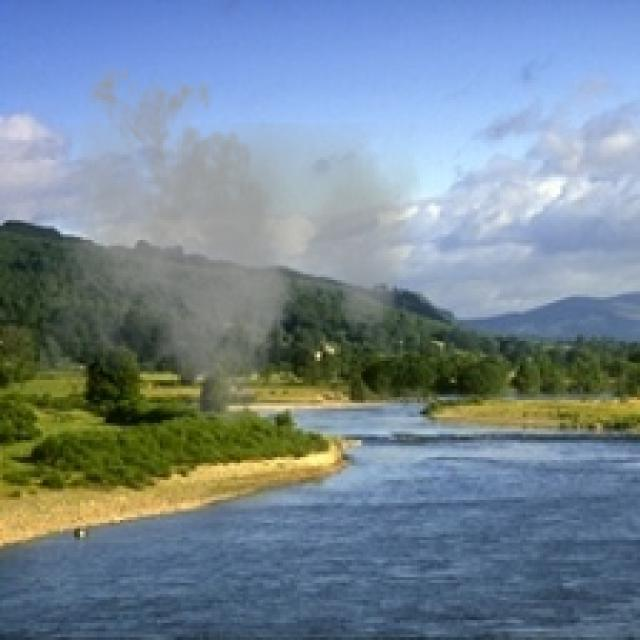Smoke: (37, 54, 423, 443)
